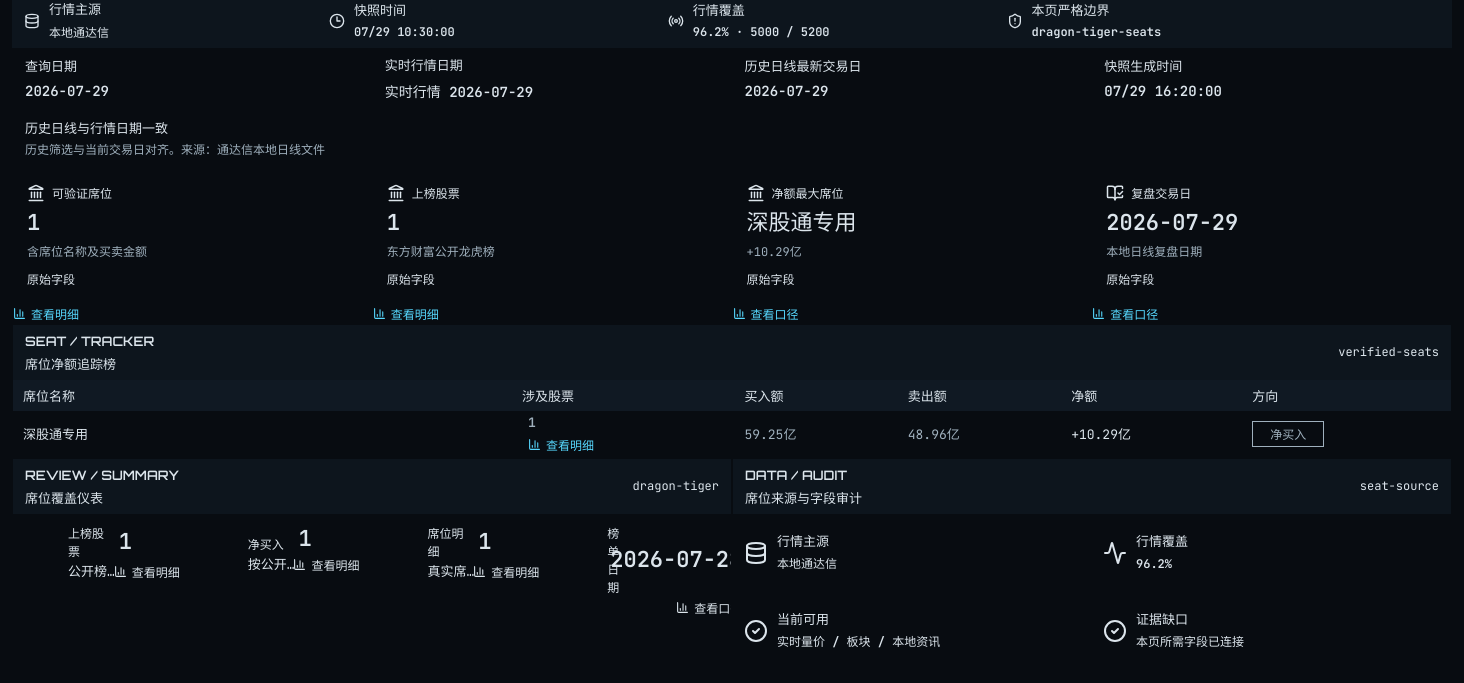
Test: DistinctMarketWorkspace › drills a seat stock count into the exact named public-list members
This screenshot has width=1464, height=683.
Click the button with aria-label "筛选：深股通专用涉及股票 1". click: (623, 434)
box: [522, 411, 724, 457]
(page scrolled)
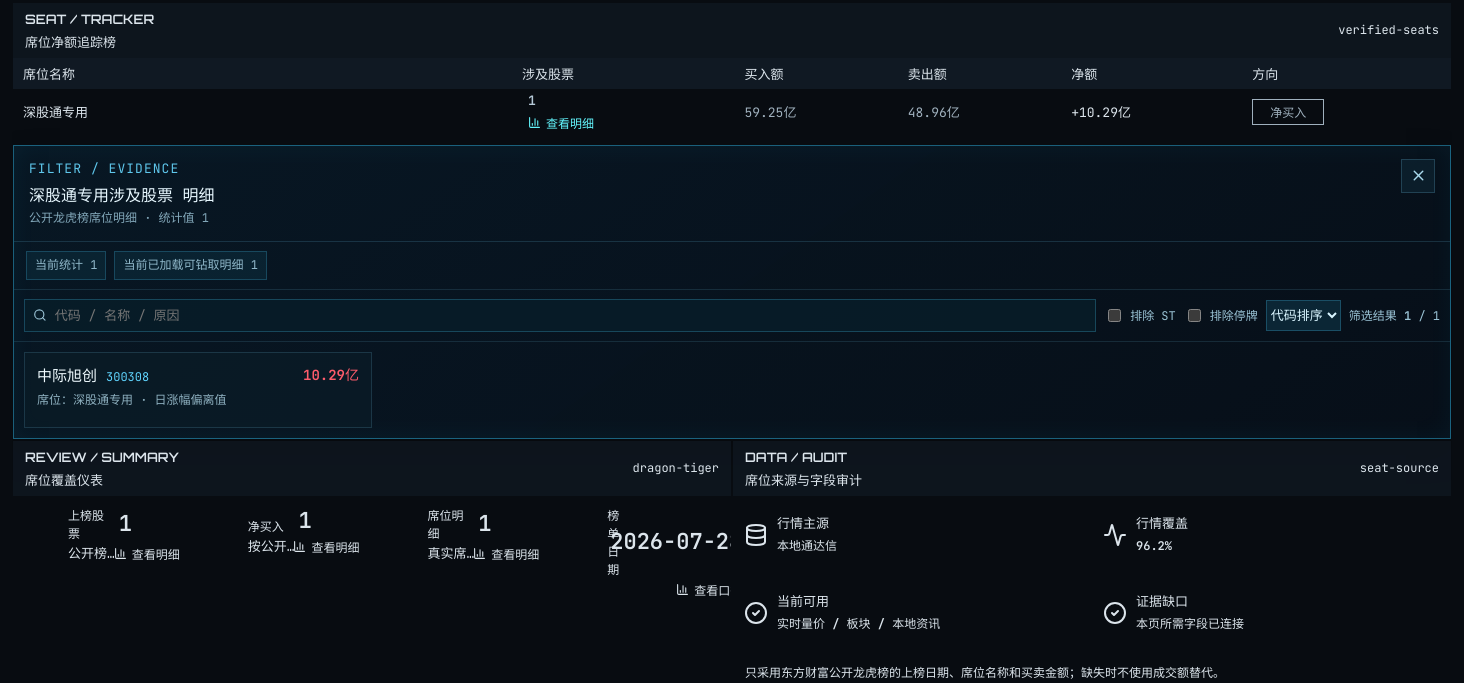
Now the element "深股通专用涉及股票 明细" shows "中际旭创", box [37, 366, 97, 386]
Now the element "深股通专用涉及股票 明细" shows "300308", box [106, 369, 149, 385]
Now the element "深股通专用涉及股票 明细" shows "席位：深股通专用", box [37, 392, 227, 408]
